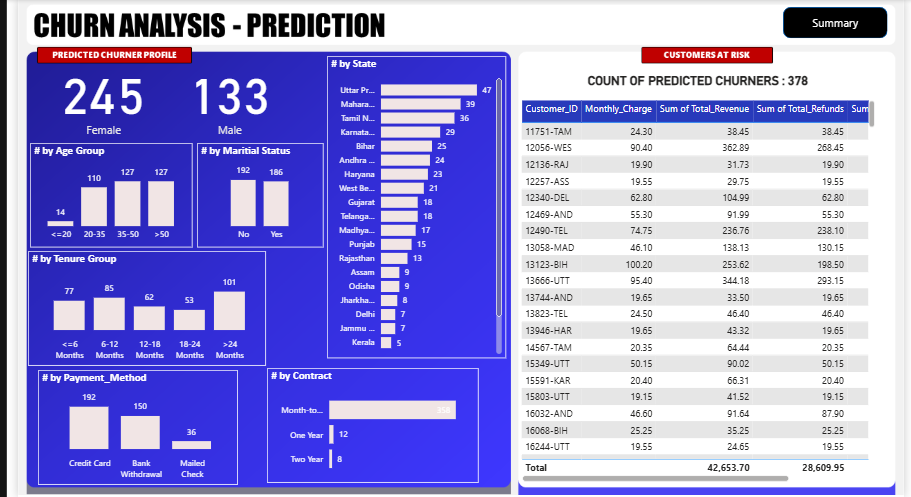

This screenshot's page, from the dashboard's own definition file:
{"tool":"powerbi","page":{"name":"Churn Prediction","canvas":[1280,720],"ordinal":2},"visuals":[{"type":"tableEx","title":"Coun","fields":{"Values":["Churn_Predictions.Customer_ID","Churn_Predictions.Monthly_Charge","Sum(Churn_Predictions.Total_Revenue)","Sum(Churn_Predictions.Total_Refunds)","Sum(Churn_Predictions.Number_of_Referrals)"]},"box":[722.3,141.1,520.7,557.7],"z":0},{"type":"card","fields":{"Values":["tbl_Measures.Title Predicted Churner"]},"box":[808,95.7,349.4,45.4],"z":1000},{"type":"card","fields":{"Values":["tbl_Measures.Count Predicted Churner"]},"box":[28.6,73.9,189.8,132.7],"z":2000},{"type":"card","fields":{"Values":["tbl_Measures.Count Predicted Churner"]},"box":[213.3,73.9,184.8,132.7],"z":3000},{"type":"clusteredColumnChart","fields":{"Category":["mapping_AgeGrp.Age Group"],"Y":["CountNonNull(Churn_Predictions.Customer_ID)"]},"box":[16.8,208.3,235.2,151.2],"z":4000},{"type":"clusteredColumnChart","fields":{"Category":["Churn_Predictions.Married"],"Y":["CountNonNull(Churn_Predictions.Customer_ID)"]},"box":[258.7,208.3,183.1,151.2],"z":5000},{"type":"clusteredColumnChart","fields":{"Category":["mapping_TenureGrp.Tenure Group"],"Y":["CountNonNull(Churn_Predictions.Customer_ID)"]},"box":[15.1,364.5,344.4,166.3],"z":6000},{"type":"clusteredColumnChart","fields":{"Category":["Churn_Predictions.Payment_Method"],"Y":["CountNonNull(Churn_Predictions.Customer_ID)"]},"box":[28.6,535.9,288.9,166.3],"z":7000},{"type":"clusteredBarChart","fields":{"Category":["Churn_Predictions.Contract"],"Y":["CountNonNull(Churn_Predictions.Customer_ID)"]},"box":[359.5,534.2,305.7,166.3],"z":8000},{"type":"clusteredBarChart","fields":{"Category":["Churn_Predictions.State"],"Y":["CountNonNull(Churn_Predictions.Customer_ID)"]},"box":[446.8,82.3,258.7,436.7],"z":10000},{"type":"shape","box":[1105.3,11.8,151.2,45.4],"z":10001}]}

Visuals, with their boxes on the page's 1280x720 design canvas (x1, y1, x2, y2). These are canvas units, not pixel positions in the 911x497 screenshot, which may show the page scaled, cropped or inside an application window:
"Coun" tableEx: 722 141 1243 699
card - tbl_Measures.Title Predicted Churner: 808 96 1157 141
card - tbl_Measures.Count Predicted Churner: 29 74 218 207
card - tbl_Measures.Count Predicted Churner: 213 74 398 207
clusteredColumnChart - mapping_AgeGrp.Age Group x CountNonNull(Churn_Predictions.Customer_ID): 17 208 252 360
clusteredColumnChart - Churn_Predictions.Married x CountNonNull(Churn_Predictions.Customer_ID): 259 208 442 360
clusteredColumnChart - mapping_TenureGrp.Tenure Group x CountNonNull(Churn_Predictions.Customer_ID): 15 364 360 531
clusteredColumnChart - Churn_Predictions.Payment_Method x CountNonNull(Churn_Predictions.Customer_ID): 29 536 318 702
clusteredBarChart - Churn_Predictions.Contract x CountNonNull(Churn_Predictions.Customer_ID): 360 534 665 700
clusteredBarChart - Churn_Predictions.State x CountNonNull(Churn_Predictions.Customer_ID): 447 82 706 519
shape: 1105 12 1256 57
